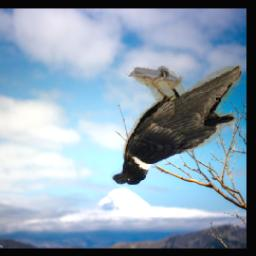Crow: (110, 67, 241, 189)
